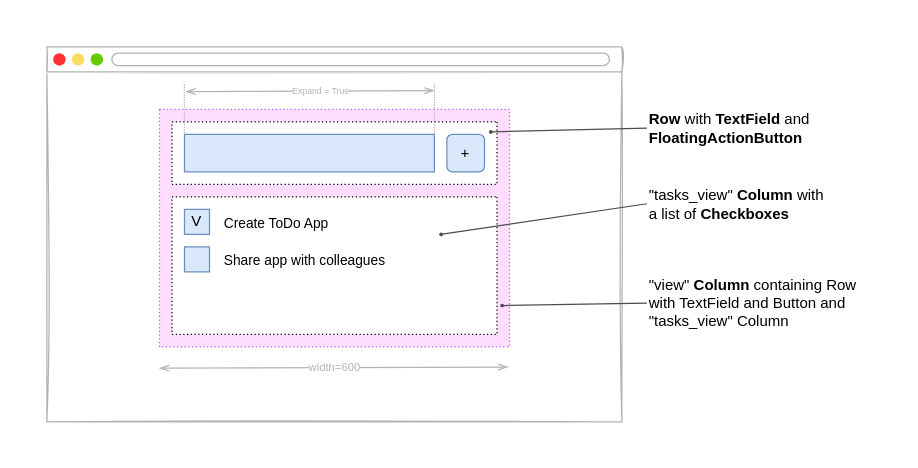
Some shapes in this 918 by 468 pixel diagram are drawn without their labels. The box of each missing label's shape, as (x1, y1, x2, y2) in pixels:
"new_task" TextField: (183, 133, 434, 172)
Page with "center" horizontal alignment: (46, 71, 622, 422)
